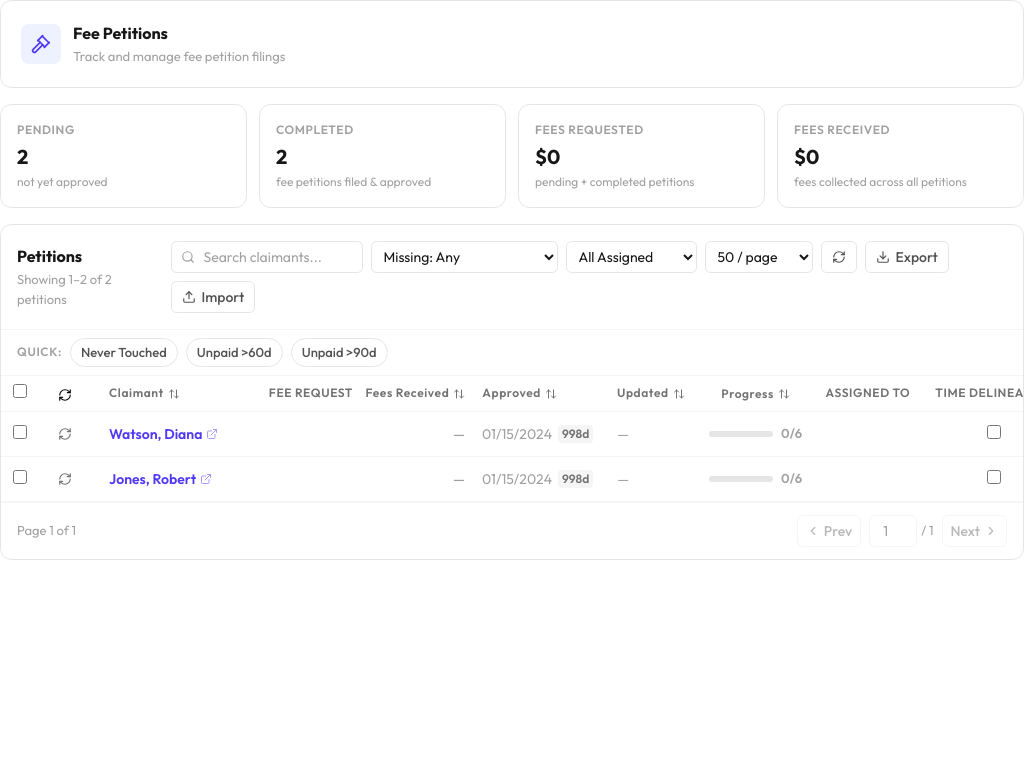
FeePetitions — bulk remove confirm dialog › shows a skipped-cases message in the dialog when the server reports a partial update
Expected: the text "Watson, Diana" is shown, [109,424,202,444]
Expected: the text "Jones, Robert" is shown, [109,468,196,490]
Click the checkbox named "select watson, diana" at [20, 432], box [13,424,27,438]
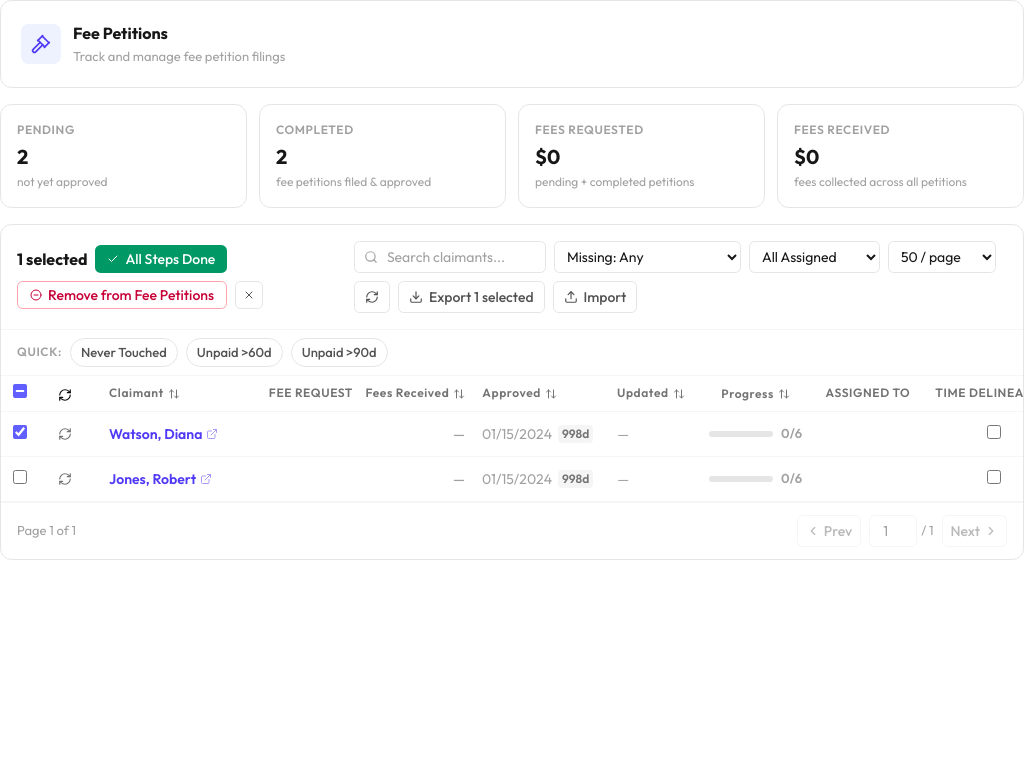
Click the checkbox named "select jones, robert" at [20, 476], box [13,470,27,484]
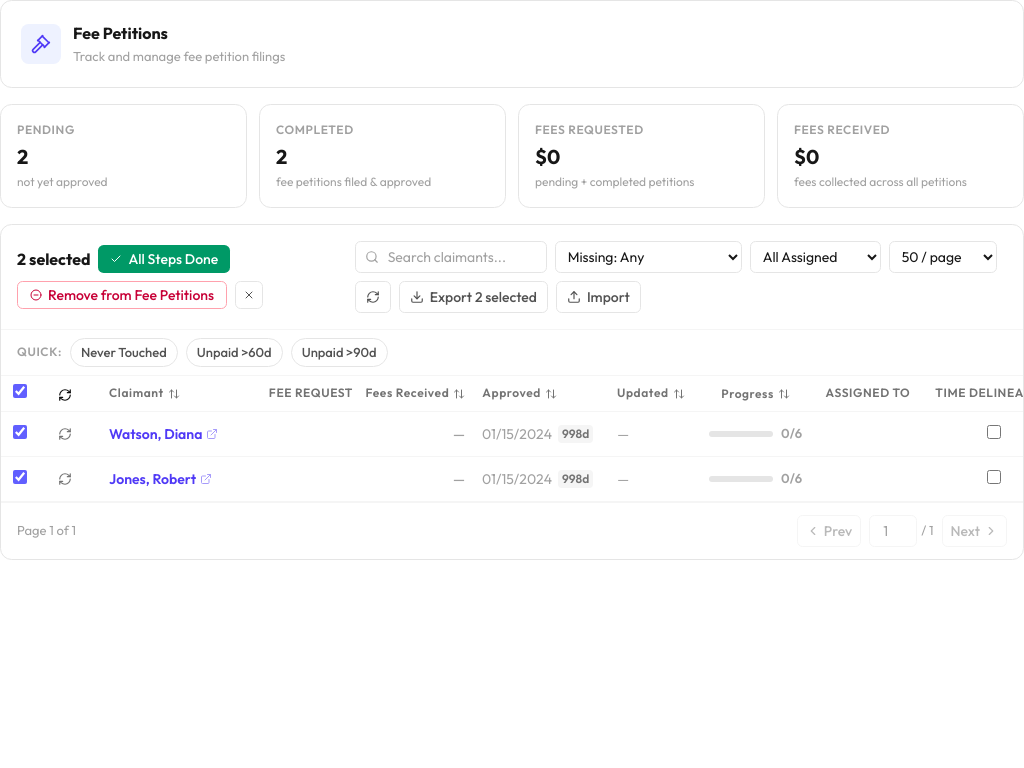
Click the button with aria-label "remove selected cases from fee petitions" at [122, 294], box [17,280,227,308]
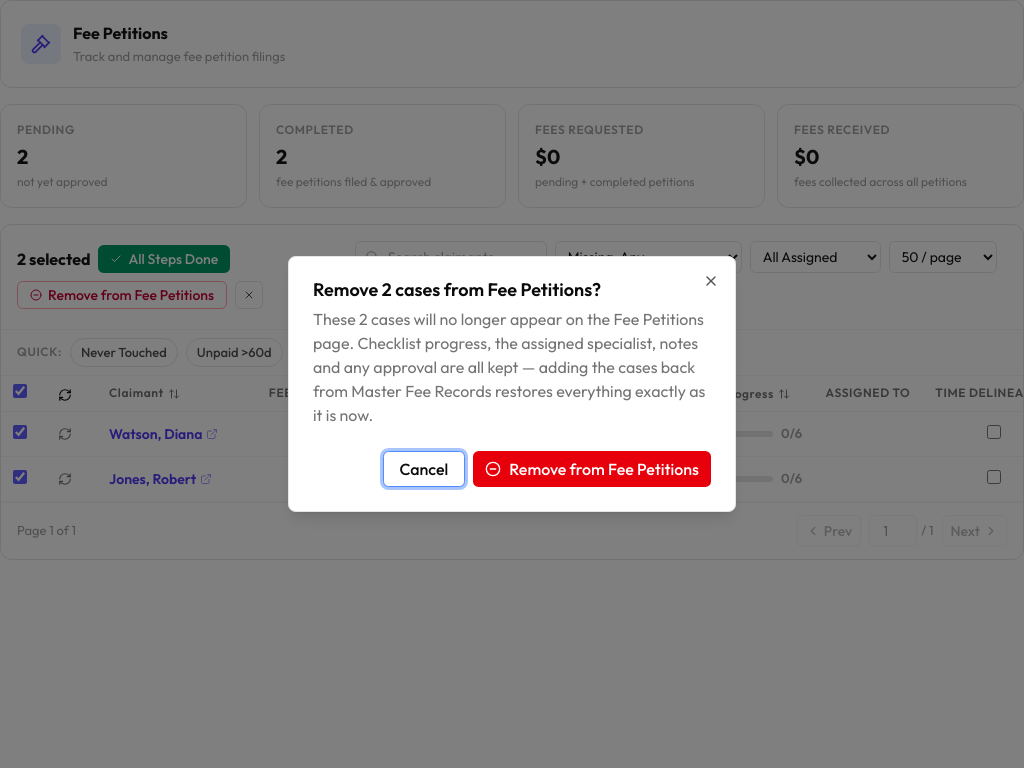
Click the button "Remove from Fee Petitions" at [592, 469], box [473,451,711,487]
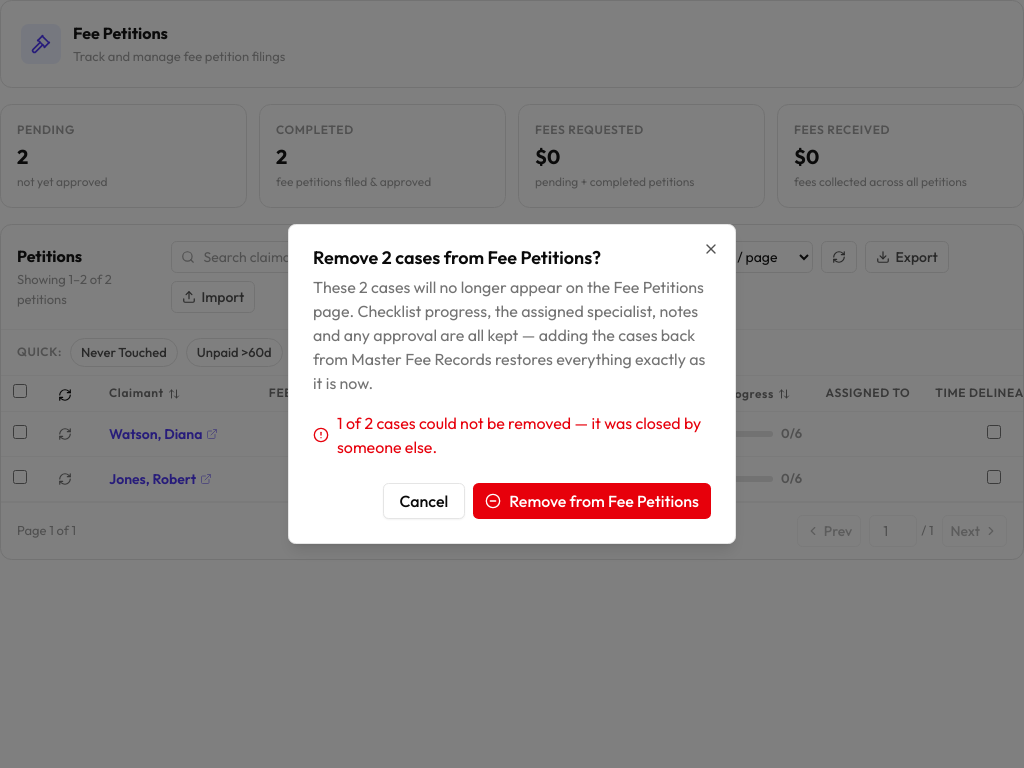
Expected: the message "1 of 2 cases could not be removed — it was closed by someone else." is shown, [313,411,711,459]
Expected: the message shows "could not be removed", [337,413,701,457]
